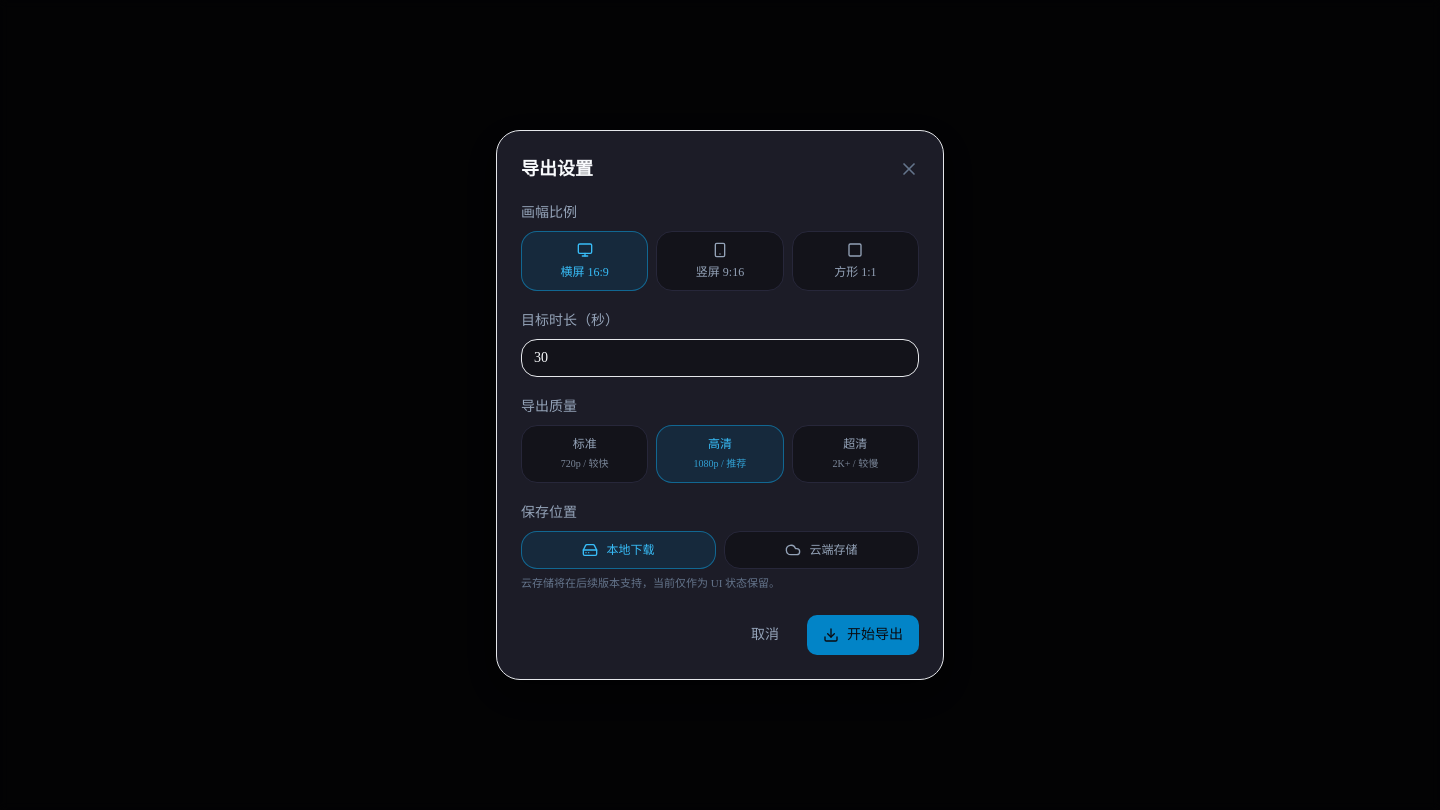
Test: ExportSettings › shows inline validation error and disables submit when duration is empty
Step 1. Clear the number field labelled "目标时长（秒）" → [720, 358], box left=521, top=339, right=919, bottom=377
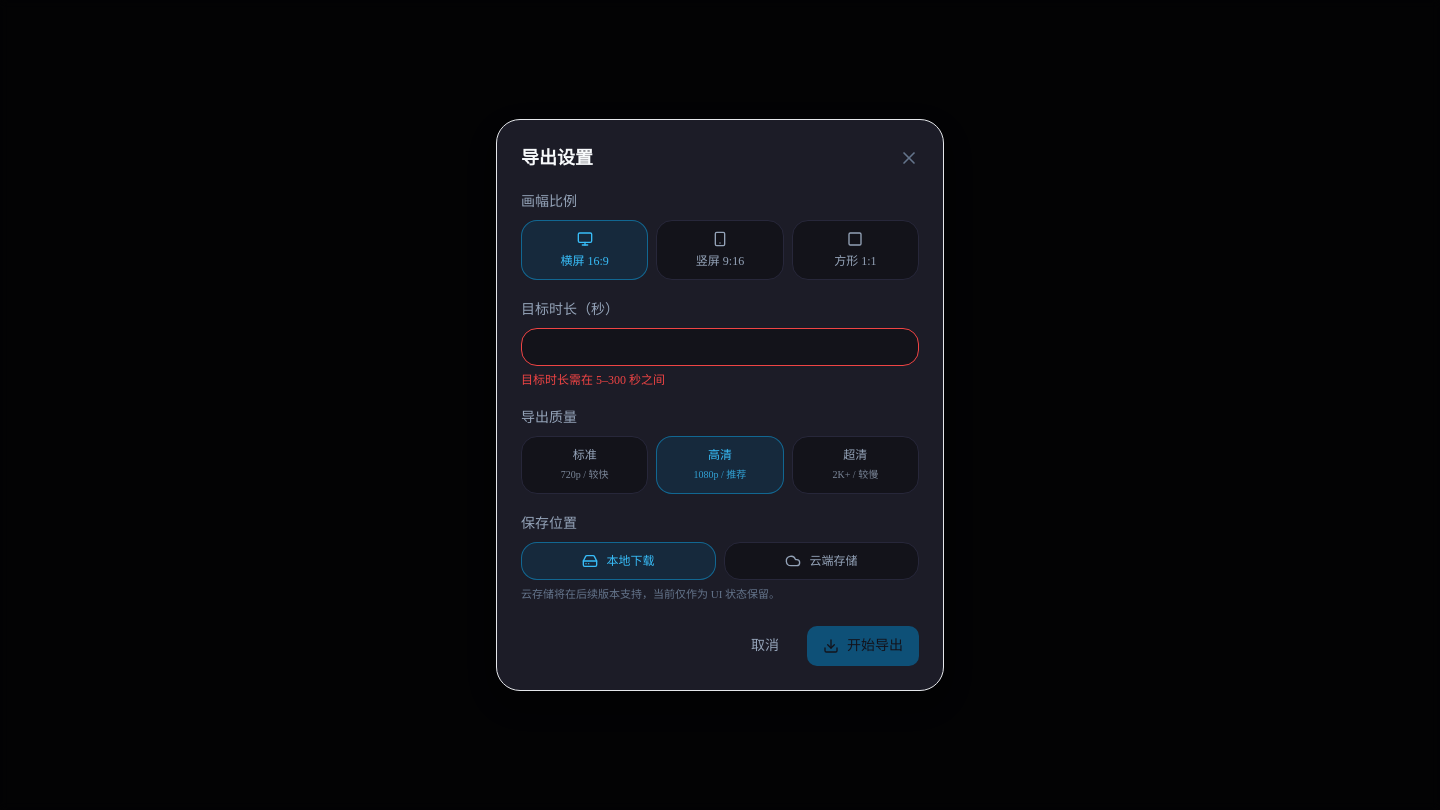
expect the text "目标时长需在 5–300 秒之间" is shown: met, box left=521, top=373, right=665, bottom=387
expect the button "开始导出" is disabled: met, box left=807, top=626, right=919, bottom=666
